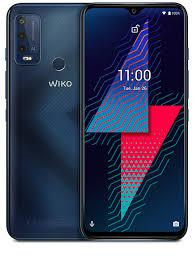Smartphone: (82, 7, 187, 237), (11, 4, 82, 241)
